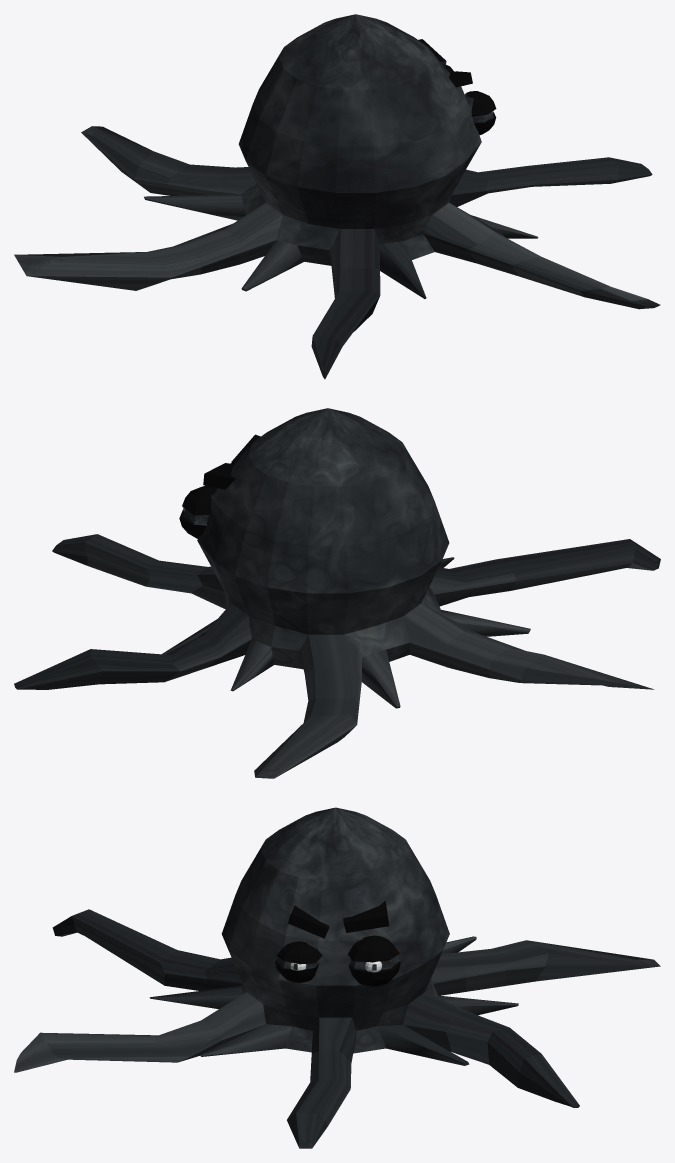
File: Pulpo.fbx
3 views of the same model, one above another, from view 1: azimuth 30°, elevation 25°; view 2: azimuth 150°, elevation 25°; view 3: azimuth 270°, elevation 25° (orthographic). The views are drawn at different scales.
Visible parts, largest first — view 1: Sphere; view 2: Sphere; view 3: Sphere.
Part boxes in pixels (x1,y1,x2,y2): Sphere: (14, 14, 660, 379); Sphere: (14, 408, 660, 778); Sphere: (14, 807, 660, 1148).
Size of the model in its own units: 583 by 216 by 558.
